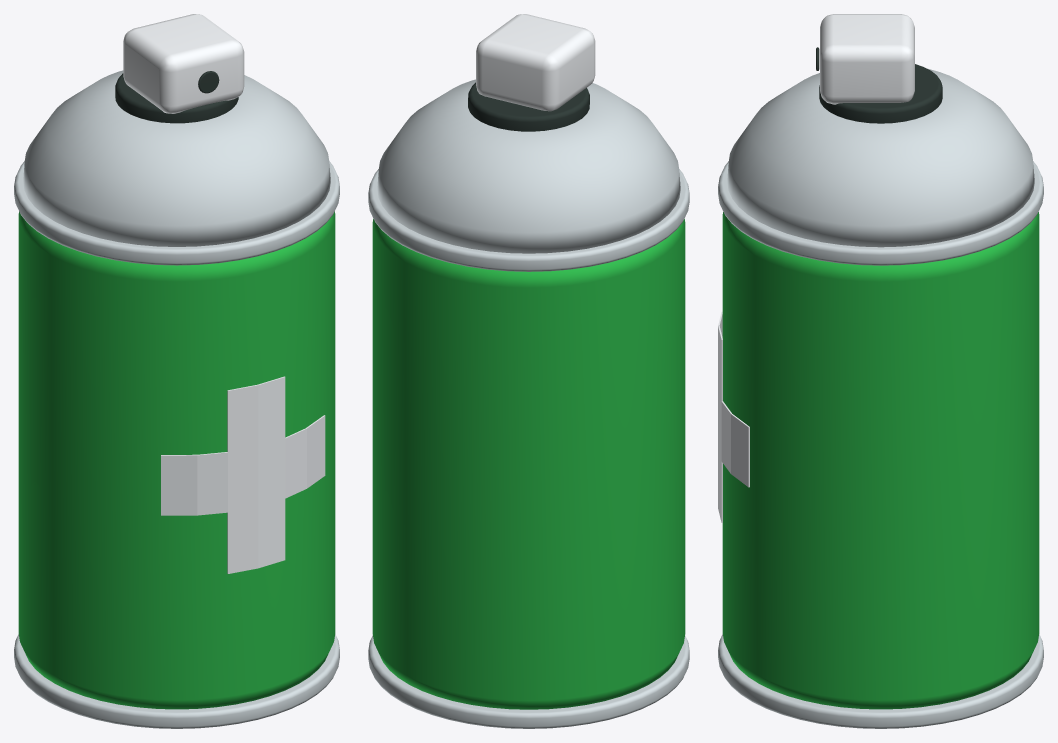
File: ProbablyFineRepairSpray.fbx
3 views of the same model, side by side, from view 1: azimuth 30°, elevation 25°; view 2: azimuth 150°, elevation 25°; view 3: azimuth 270°, elevation 25° (orthographic).
Visible parts, largest first — view 1: GreenCan, SilverShoulder, WhiteMedicalCross, WhiteSprayNozzle, RolledMetalRim, RolledMetalRim.001, ValveSocket; view 2: GreenCan, SilverShoulder, WhiteSprayNozzle, RolledMetalRim, RolledMetalRim.001, ValveSocket; view 3: GreenCan, SilverShoulder, WhiteSprayNozzle, RolledMetalRim, RolledMetalRim.001, ValveSocket, WhiteMedicalCross.
Boxes of the visible parts, <box> form: GreenCan: <box>18,211,335,709</box>; SilverShoulder: <box>23,70,330,246</box>; WhiteMedicalCross: <box>161,376,325,573</box>; WhiteSprayNozzle: <box>123,14,244,113</box>; RolledMetalRim: <box>14,634,339,728</box>; RolledMetalRim.001: <box>14,161,339,265</box>; ValveSocket: <box>115,73,238,123</box>; GreenCan: <box>372,219,685,709</box>; SilverShoulder: <box>377,79,680,253</box>; WhiteSprayNozzle: <box>476,14,595,111</box>; RolledMetalRim: <box>368,635,689,728</box>; RolledMetalRim.001: <box>368,169,689,271</box>; ValveSocket: <box>468,82,589,131</box>; GreenCan: <box>722,212,1039,709</box>; SilverShoulder: <box>727,68,1034,247</box>; WhiteSprayNozzle: <box>820,14,914,104</box>; RolledMetalRim: <box>718,634,1043,728</box>; RolledMetalRim.001: <box>718,161,1043,265</box>; ValveSocket: <box>819,64,942,123</box>; WhiteMedicalCross: <box>718,311,749,522</box>.
Size of the model in its own units: 21.6 by 46.25 by 21.6.
